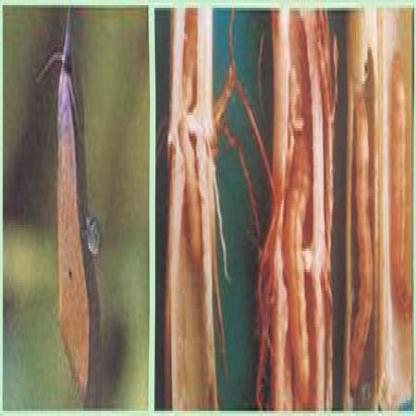stem-borer: (52, 5, 88, 408)
